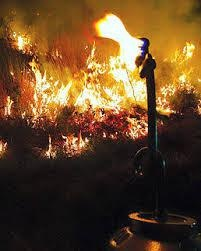fire: (5, 8, 183, 149)
